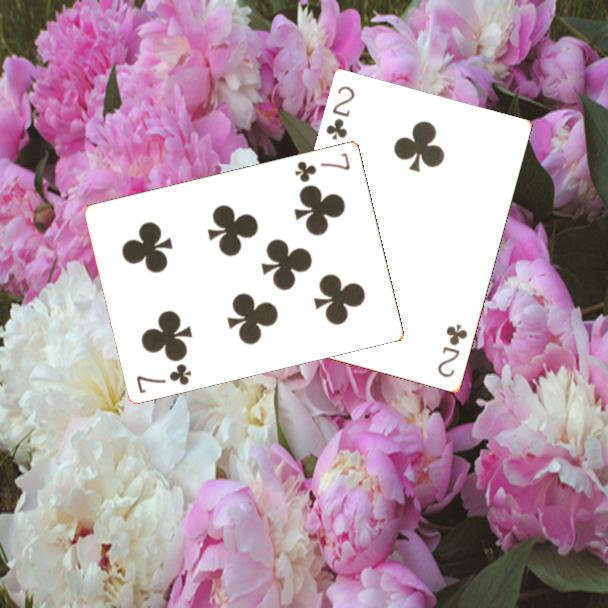c02: (434, 321, 471, 381), (323, 83, 358, 143)
c07: (291, 149, 353, 185), (133, 360, 195, 396)
